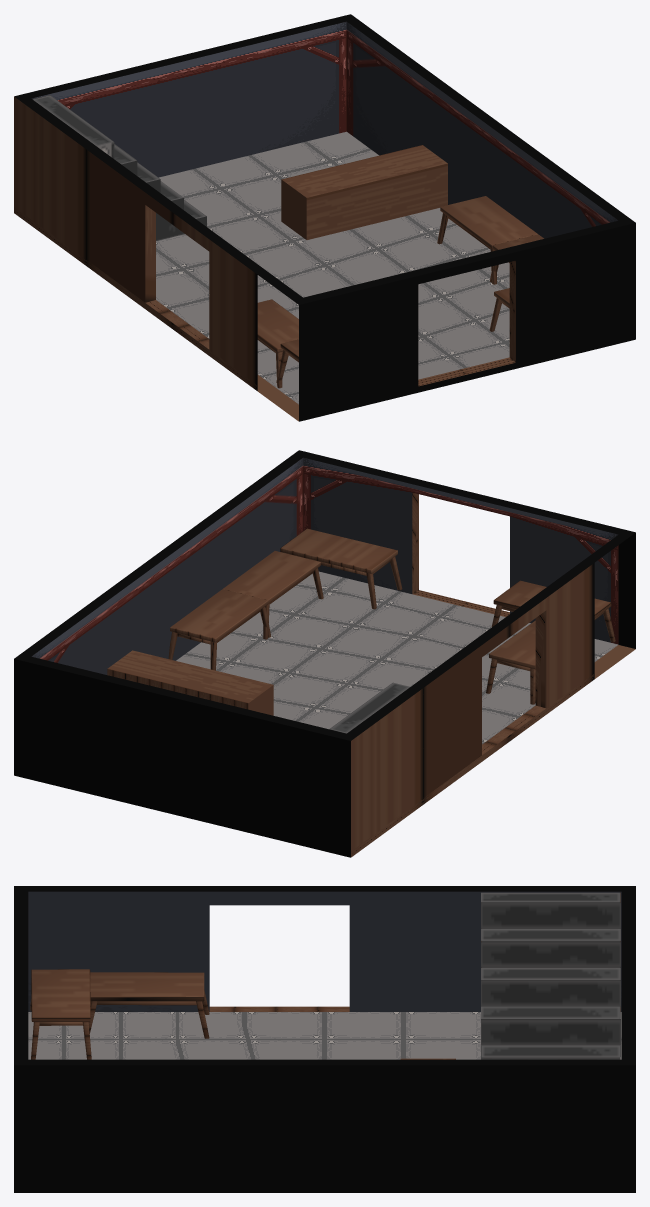
The model's file is Shop.fbx.
3 views of the same model, one above another, from view 1: azimuth 30°, elevation 25°; view 2: azimuth 150°, elevation 25°; view 3: azimuth 270°, elevation 25° (orthographic). The views are drawn at different scales.
Visible parts, largest first — view 1: New object.030; view 2: New object.030; view 3: New object.030.
Part boxes in pixels (box(x1,y1,x2,y2)): New object.030: box(14, 14, 635, 421); New object.030: box(14, 450, 635, 857); New object.030: box(14, 886, 635, 1192).
Bounding box in the file's own units: 238 × 78.82 × 349.
Materials: 6 (5 with a texture image).
